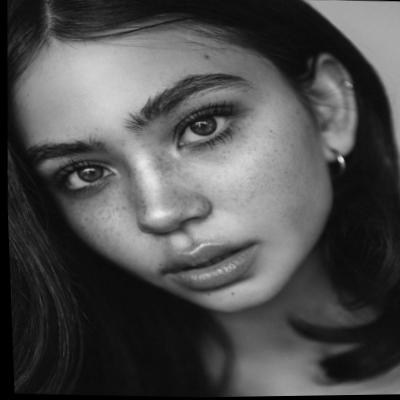netural: (2, 14, 339, 326)
